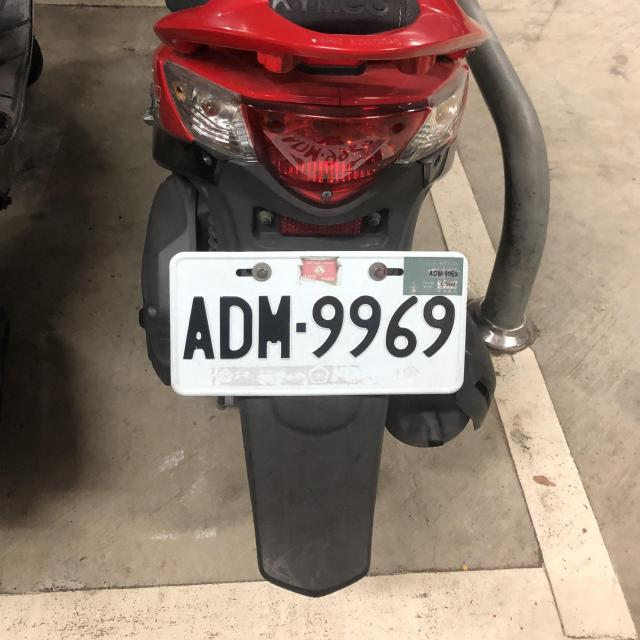W: (166, 246, 470, 397)
